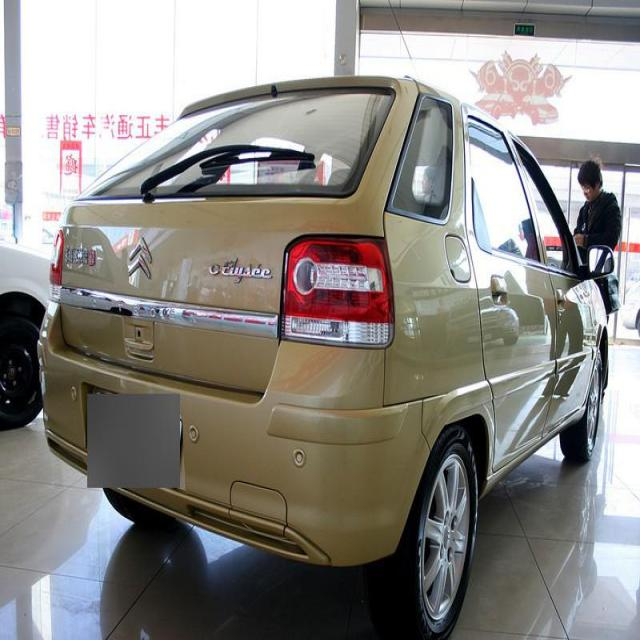back_glass: (70, 87, 399, 200)
back_left_side_light: (49, 228, 72, 292)
back_right_side_light: (281, 230, 397, 350)
door: (451, 109, 556, 441)
front_right_side_door: (507, 132, 595, 446)
front_right_side_mirror: (582, 243, 615, 281)
rear_bumper: (35, 295, 435, 569)
wheel: (375, 425, 480, 637), (554, 352, 603, 462)
